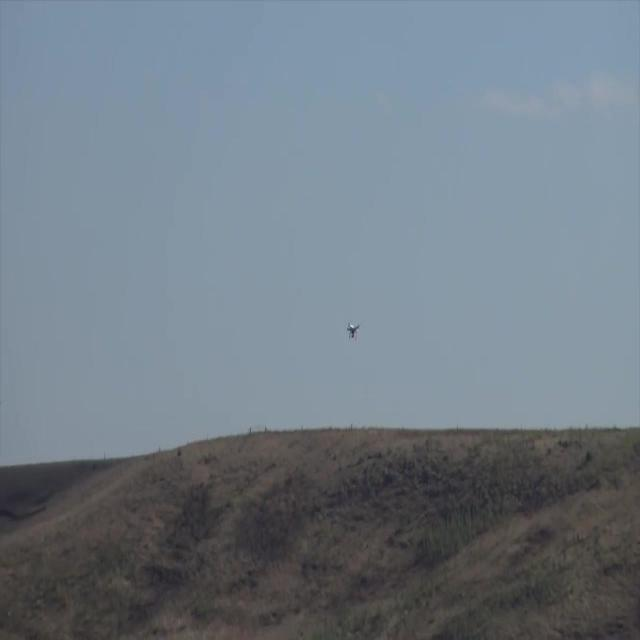UAV: (346, 321, 360, 341)
